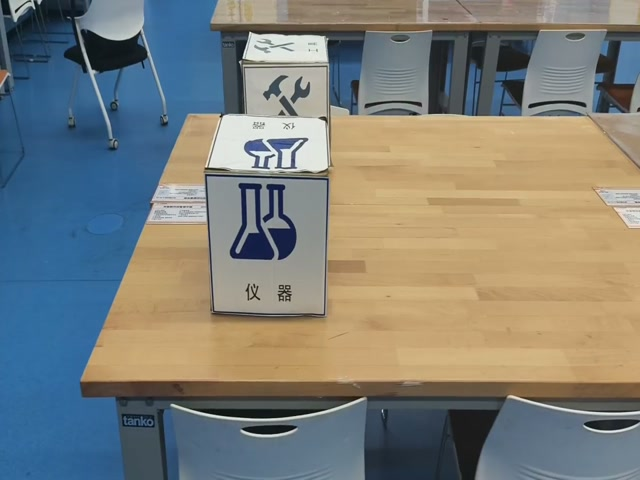Cube_ins: (205, 115, 329, 178)
Cube_tool: (241, 33, 328, 68)
